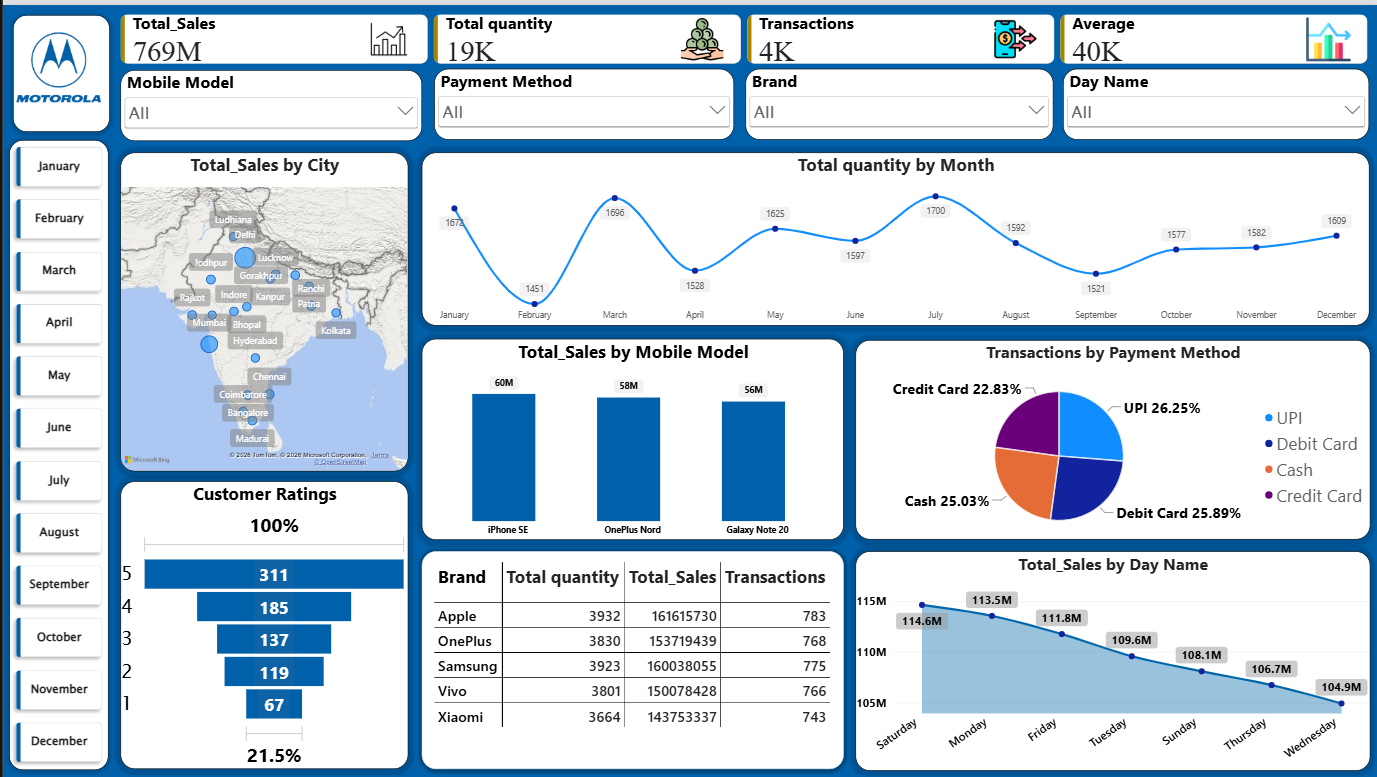

The page's visual inventory and layout, read from the dashboard file:
{"tool":"powerbi","page":{"name":"Page 1","canvas":[1920,1080],"ordinal":0},"visuals":[{"type":"shape","box":[13.3,13.3,135,163.3],"z":0},{"type":"shape","box":[8.6,187.7,138.7,878.9],"z":2000},{"type":"advancedSlicerVisual","fields":{"Values":["Sales Data.Date.Variation.Date Hierarchy.Month"]},"box":[10.8,189.8,136.9,878.9],"z":3000},{"type":"cardVisual","fields":{"Data":["Sales Data.Total_Sales","Sales Data.Total quantity","Sales Data.Transactions","Sales Data.Average"]},"box":[164,12.9,1743.1,90.6],"z":4000},{"type":"map","title":"Total_Sales by City","fields":{"Category":["Sales Data.City"],"Size":["Sales Data.Total_Sales"]},"box":[164,204.9,401.3,444.4],"z":5000},{"type":"lineChart","fields":{"Category":["Sales Data.Date.Variation.Date Hierarchy.Month","Sales Data.Date.Variation.Date Hierarchy.Day"],"Y":["Sales Data.Total quantity"]},"box":[584.6,204.9,1322.4,241.6],"z":6000},{"type":"clusteredColumnChart","fields":{"Category":["Sales Data.Mobile Model"],"Y":["Sales Data.Total_Sales"]},"box":[584.6,466,588.9,280.4],"z":7000},{"type":"pieChart","fields":{"Category":["Sales Data.Payment Method"],"Y":["Sales Data.Transactions"]},"box":[1188.7,468.1,718.4,278.3],"z":8000},{"type":"funnel","title":"Customer Ratings","fields":{"Category":["Sales Data.Customer Ratings"],"Y":["CountNonNull(Sales Data.Customer Ratings)"]},"box":[164,664.4,401.3,401.3],"z":9000},{"type":"areaChart","fields":{"Category":["Sales Data.Day Name"],"Y":["Sales Data.Total_Sales"]},"box":[1188.7,761.5,718.4,306.3],"z":10000},{"type":"tableEx","fields":{"Values":["Sales Data.Brand","Sales Data.Total quantity","Sales Data.Total_Sales","Sales Data.Transactions"]},"box":[584.6,761.5,588.9,304.2],"z":11000},{"type":"slicer","fields":{"Values":["Sales Data.Brand"]},"box":[1035.5,88.4,429.3,99.2],"z":13000},{"type":"slicer","fields":{"Values":["Sales Data.Payment Method"]},"box":[601.9,88.4,418.5,99.2],"z":14000},{"type":"slicer","fields":{"Values":["Sales Data.Day Name"]},"box":[1479.9,88.4,427.1,99.2],"z":15000},{"type":"slicer","fields":{"Values":["Sales Data.Mobile Model"]},"box":[164,90.6,420.7,99.2],"z":16000},{"type":"image","box":[0,28,155.3,118.7],"z":17000}]}

Visuals, with their boxes in screenshot pixels (x1, y1, x2, y2), scaled from the page's 1920x1080 canvas onto the 1377x777 screenshot:
shape: (10,10,106,127)
shape: (6,135,106,767)
advancedSlicerVisual - Sales Data.Date.Variation.Date Hierarchy.Month: (8,137,106,769)
cardVisual - Sales Data.Total_Sales x Sales Data.Total quantity: (118,9,1368,74)
"Total_Sales by City" map: (118,147,405,467)
lineChart - Sales Data.Date.Variation.Date Hierarchy.Month x Sales Data.Date.Variation.Date Hierarchy.Day: (419,147,1368,321)
clusteredColumnChart - Sales Data.Mobile Model x Sales Data.Total_Sales: (419,335,842,537)
pieChart - Sales Data.Payment Method x Sales Data.Transactions: (853,337,1368,537)
"Customer Ratings" funnel: (118,478,405,767)
areaChart - Sales Data.Day Name x Sales Data.Total_Sales: (853,548,1368,768)
tableEx - Sales Data.Brand x Sales Data.Total quantity: (419,548,842,767)
slicer - Sales Data.Brand: (743,64,1051,135)
slicer - Sales Data.Payment Method: (432,64,732,135)
slicer - Sales Data.Day Name: (1061,64,1368,135)
slicer - Sales Data.Mobile Model: (118,65,419,137)
image: (0,20,111,106)
